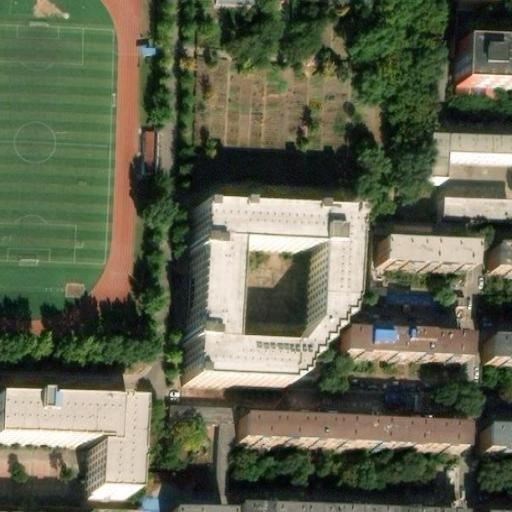building: (180, 208, 354, 390), (6, 396, 157, 495), (240, 413, 467, 448), (426, 126, 512, 180), (340, 327, 463, 357), (248, 499, 466, 512), (455, 39, 512, 88), (378, 238, 471, 268), (446, 195, 512, 217), (141, 126, 158, 175), (484, 334, 512, 361), (485, 423, 512, 448), (490, 243, 512, 269), (218, 0, 258, 9), (162, 507, 228, 512)
